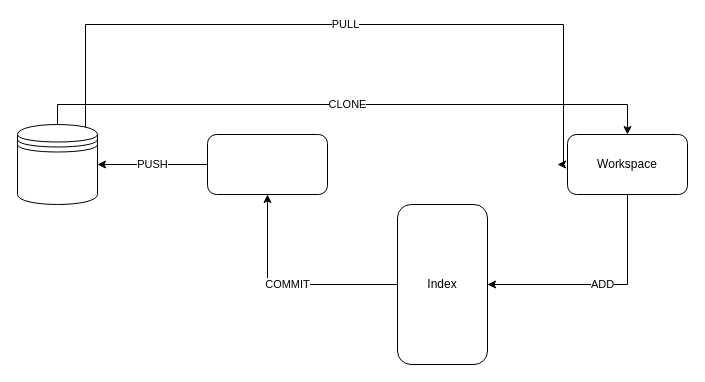
Some shapes in this 705 by 382 pixel diagram are drawn without their labels. The shapes that lost their labels are listed below. From the top down, each one's box as (x1, y1, x2, y2) in pixels, then its label:
(16, 124, 98, 204): Remote
(206, 134, 328, 194): Repo
